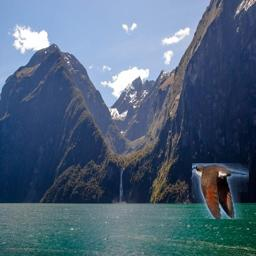Cuckoo: (192, 163, 249, 219)
